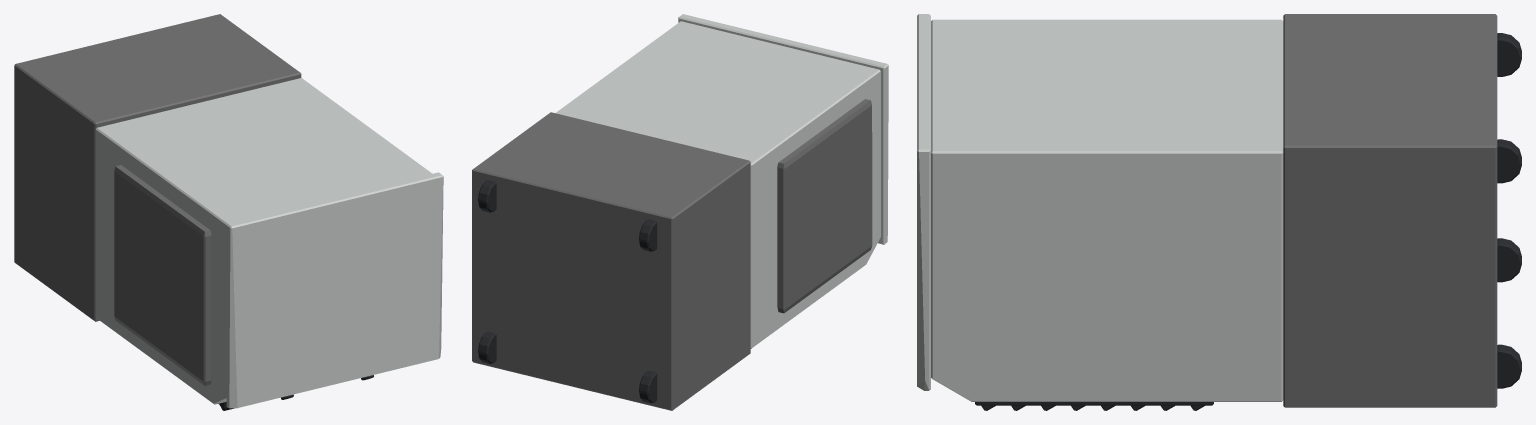
The model's file is SM_Prop_Conditioner.fbx.
3 renders of one model, left to right at view 1: azimuth 30°, elevation 25°; view 2: azimuth 150°, elevation 25°; view 3: azimuth 270°, elevation 25°, orthographic. The views are drawn at different scales.
Parts seen in each view (by area): view 1: EvaporativeCooler; view 2: EvaporativeCooler; view 3: EvaporativeCooler.
Part boxes in pixels (bbox=[...]): EvaporativeCooler: bbox=[14, 14, 443, 410]; EvaporativeCooler: bbox=[472, 14, 888, 410]; EvaporativeCooler: bbox=[917, 14, 1521, 410].
Size of the model in its own units: 0.5262 by 0.4817 by 0.9611.
Materials: 1 (1 with a texture image).
